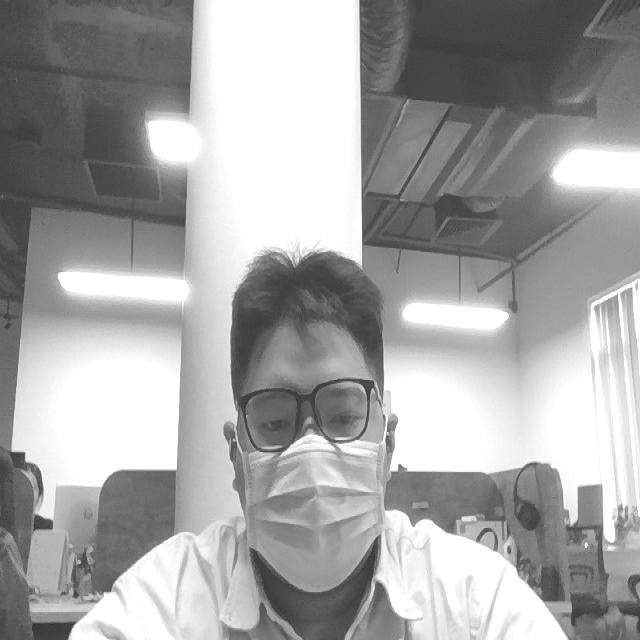fake: (244, 436, 389, 588)
real: (220, 239, 402, 592), (245, 380, 369, 446)
